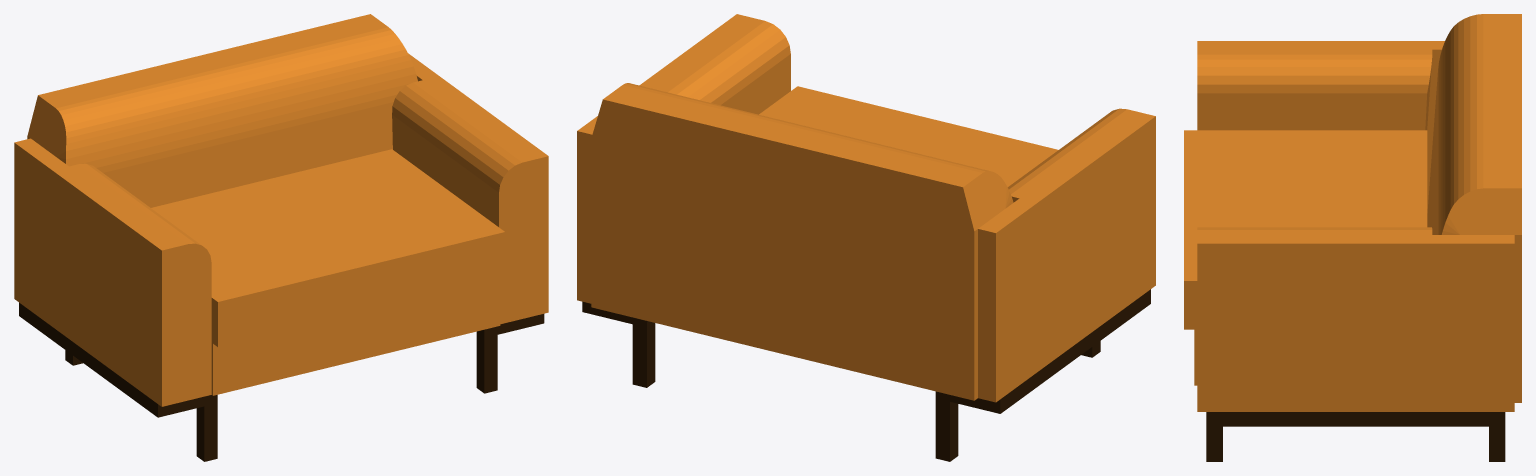
Rendered from smallCoutch.fbx.
The picture shows the model from 3 angles, left to right: view 1: azimuth 30°, elevation 25°; view 2: azimuth 150°, elevation 25°; view 3: azimuth 270°, elevation 25°; orthographic projection. The views are drawn at different scales.
Visible parts, largest first — view 1: petitSofa; view 2: petitSofa; view 3: petitSofa.
Boxes of the visible parts, bbox=[...] form: petitSofa: bbox=[14, 14, 548, 461]; petitSofa: bbox=[577, 14, 1155, 461]; petitSofa: bbox=[1184, 14, 1521, 461].
Size of the model in its own units: 116 by 76 by 82.
